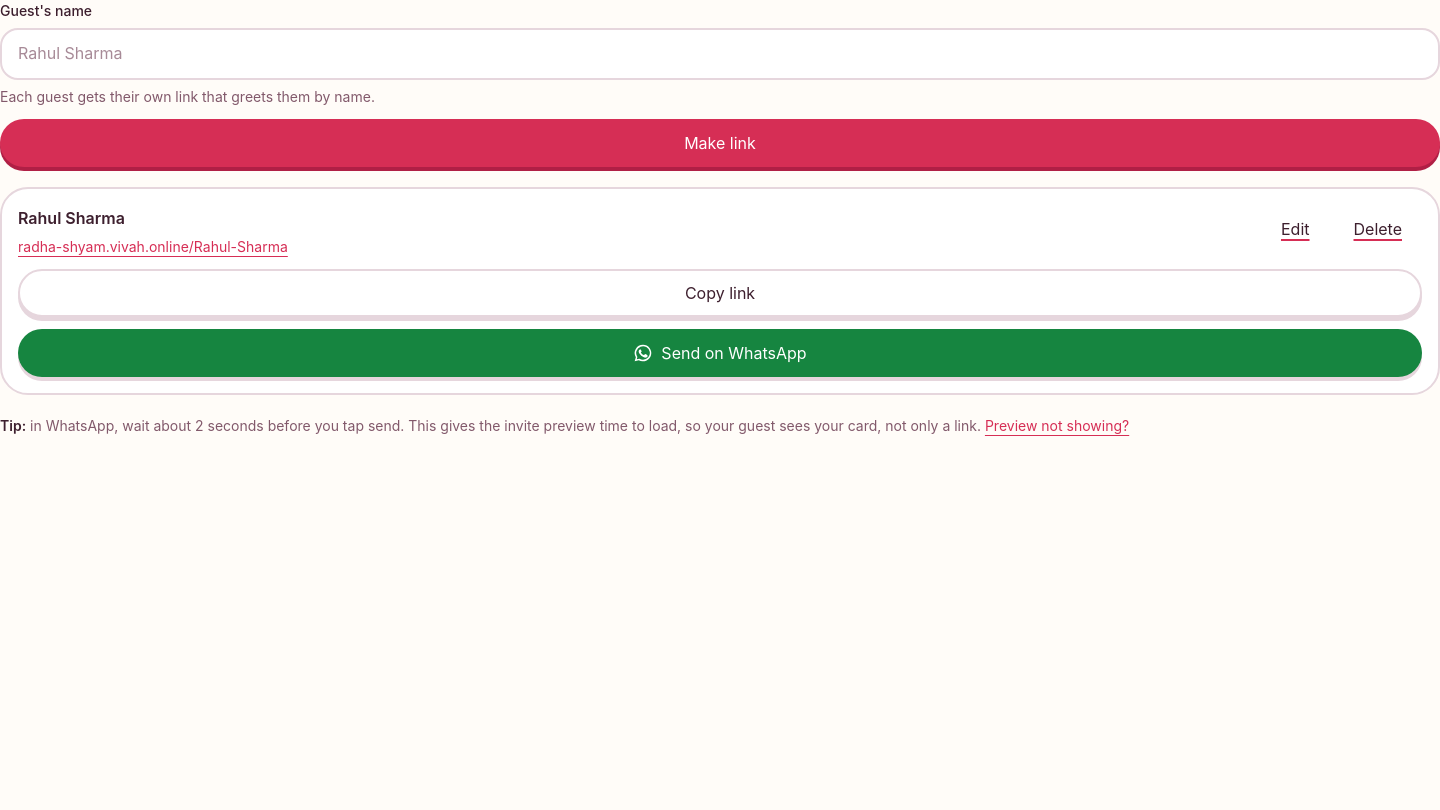
Scenario: GuestLinks › keeps the rename dialog open with the server error
Click the button with aria-label "Edit Rahul Sharma's link": (1295, 229) x1=1261 y1=205 x2=1330 y2=253
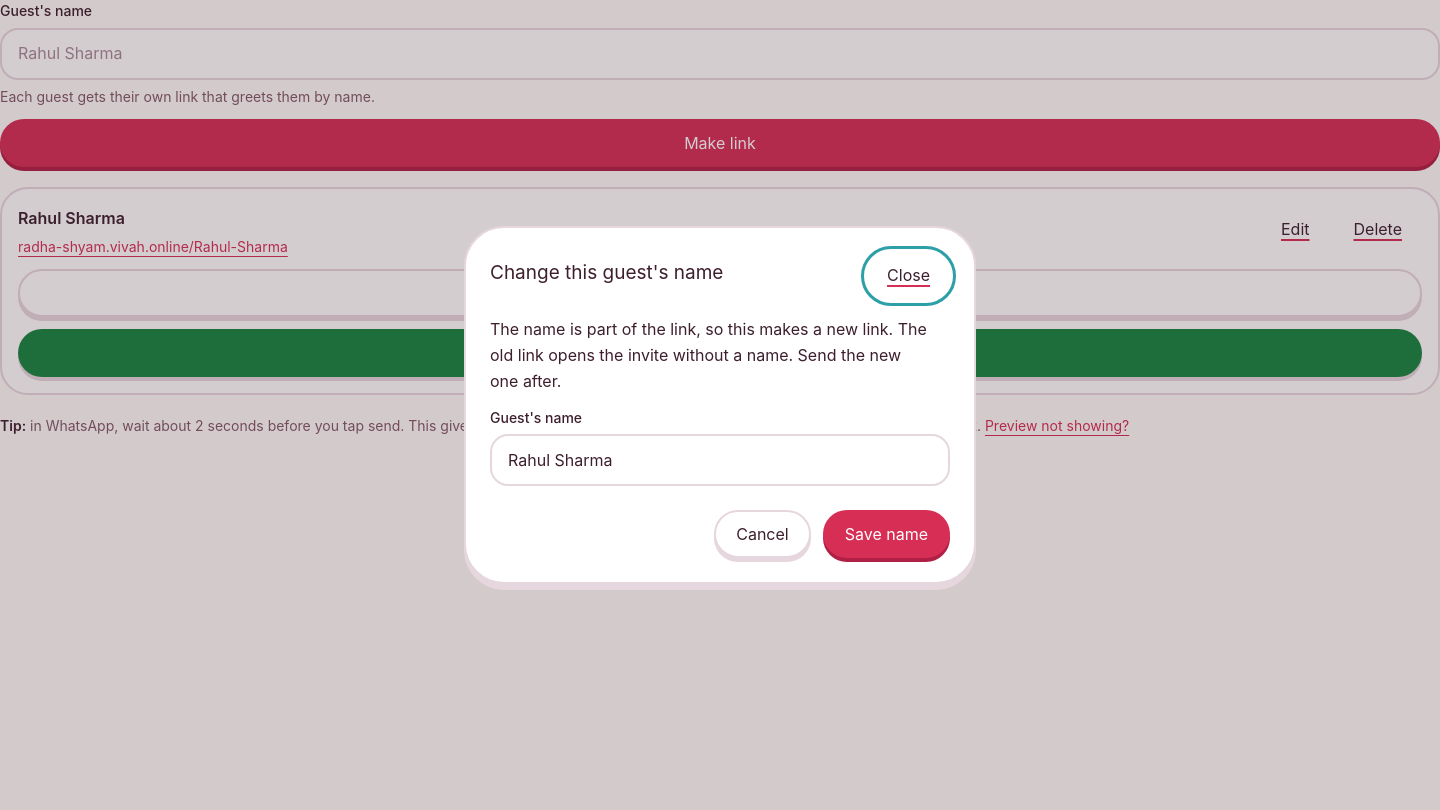
Click the button "Save name": (886, 534) x1=823 y1=510 x2=950 y2=558
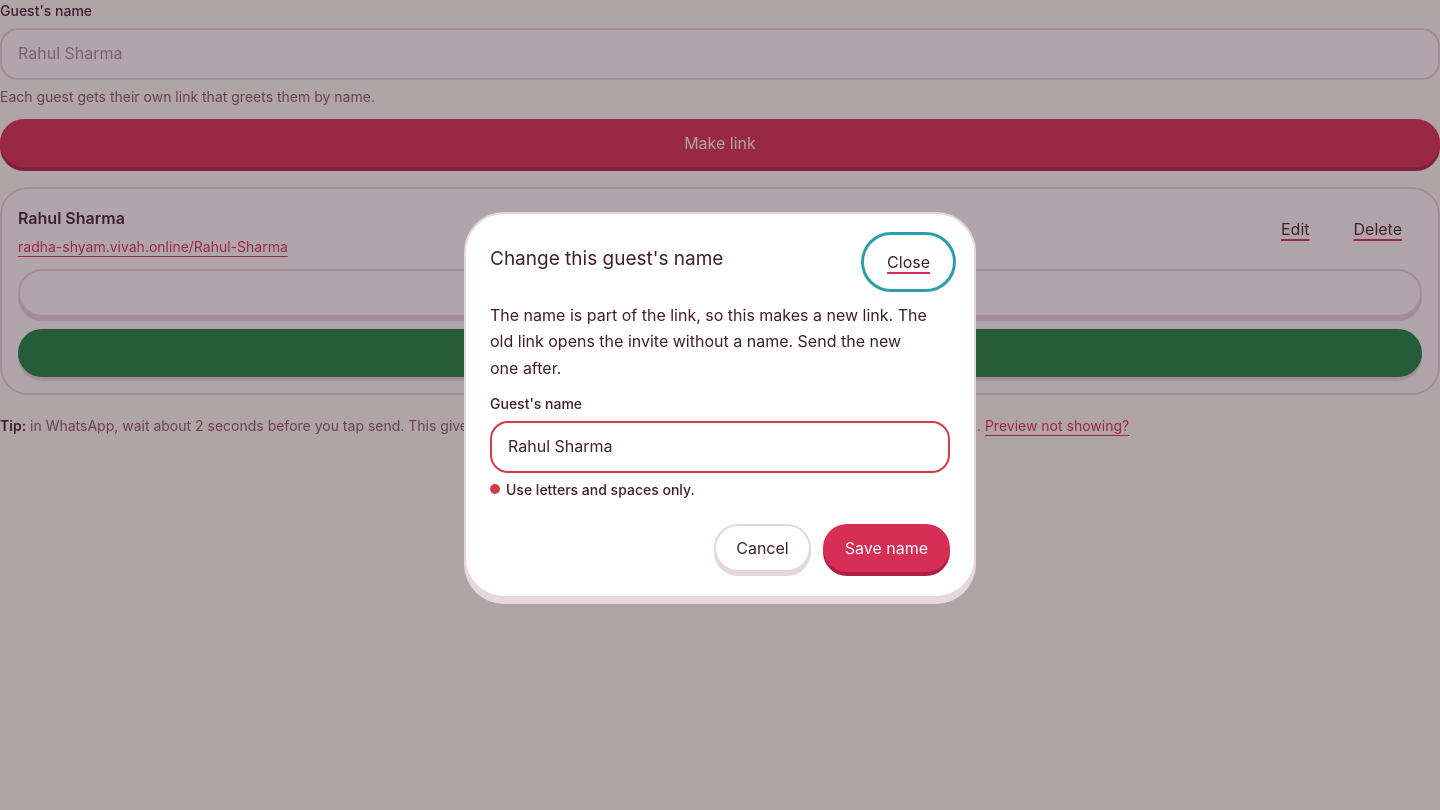
Expected: the text "Use letters and spaces only." is shown, x1=490 y1=481 x2=695 y2=498
